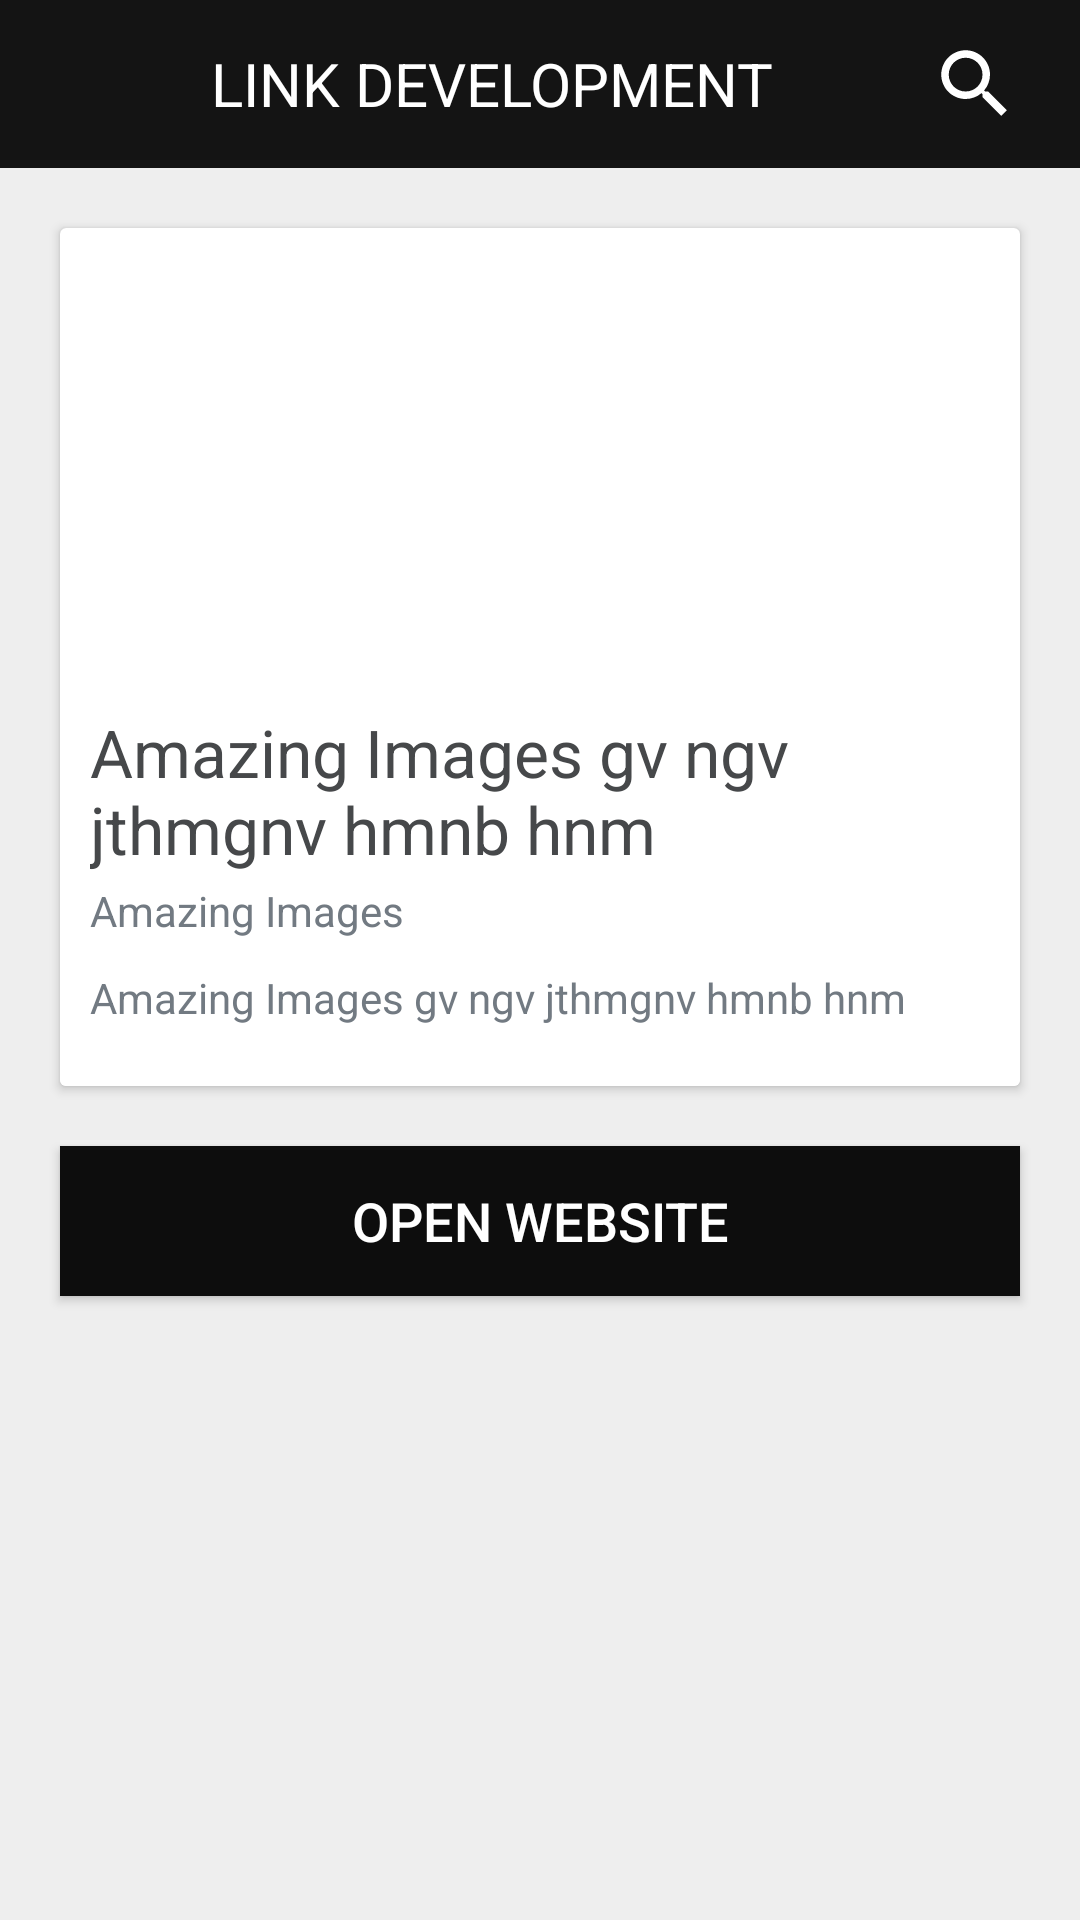

Where to tap for icons on this 1080px x 1920px app screen, as point (x, y):
search: point (974, 83)
